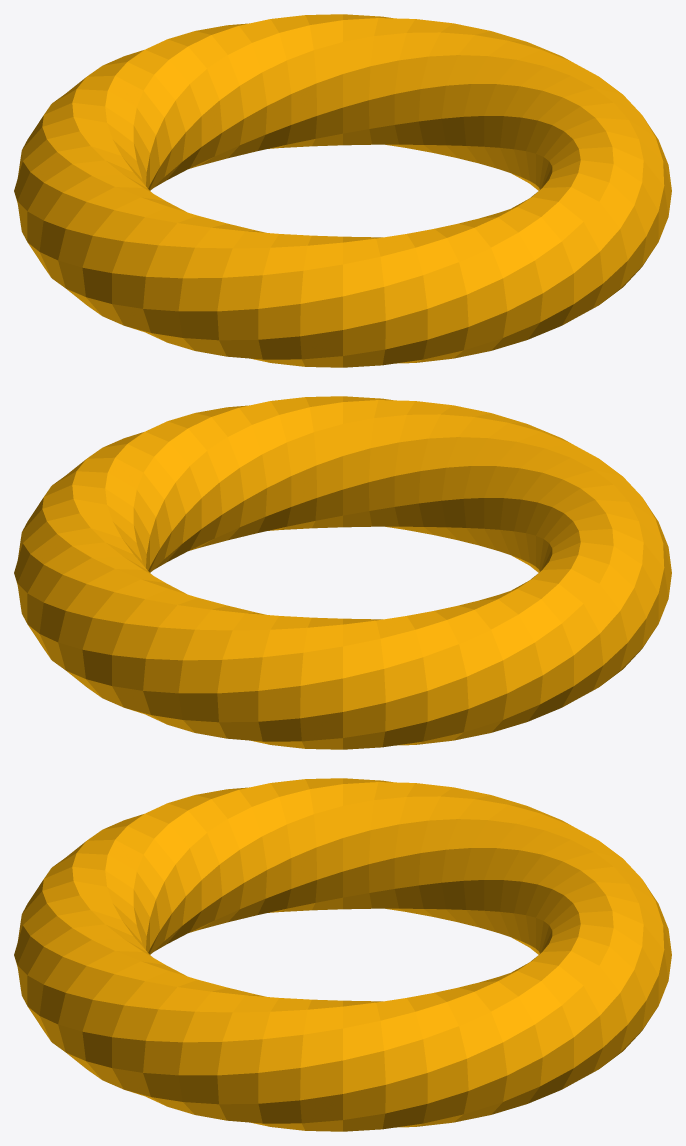
The picture shows the model from 3 angles, top to bottom: view 1: azimuth 30°, elevation 25°; view 2: azimuth 150°, elevation 25°; view 3: azimuth 270°, elevation 25°; orthographic projection.
Visible parts, largest first — view 1: TwistedTorus; view 2: TwistedTorus; view 3: TwistedTorus.
Part boxes in pixels (left/top/right/bottom): TwistedTorus: left=14, top=14, right=671, bottom=367; TwistedTorus: left=14, top=396, right=671, bottom=749; TwistedTorus: left=14, top=778, right=671, bottom=1131.
Bounding box in the file's own units: 2.5 × 0.5 × 2.5.
